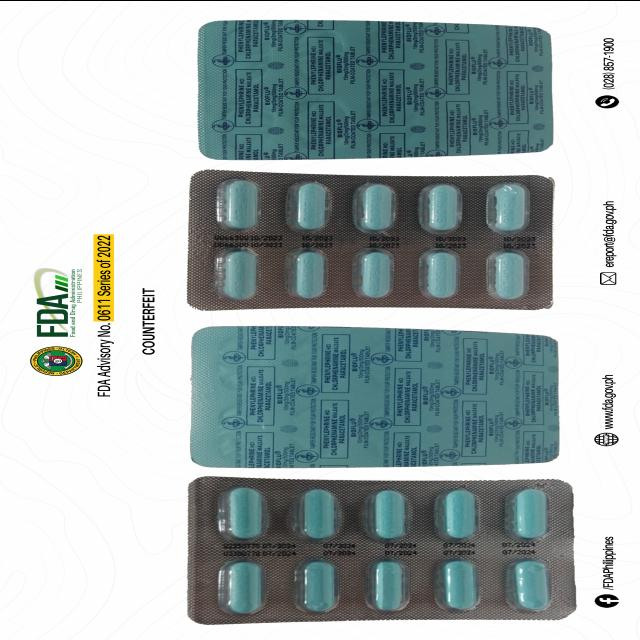counterfeit: (184, 480, 572, 622), (187, 326, 561, 464), (186, 175, 556, 308), (200, 23, 558, 158)
